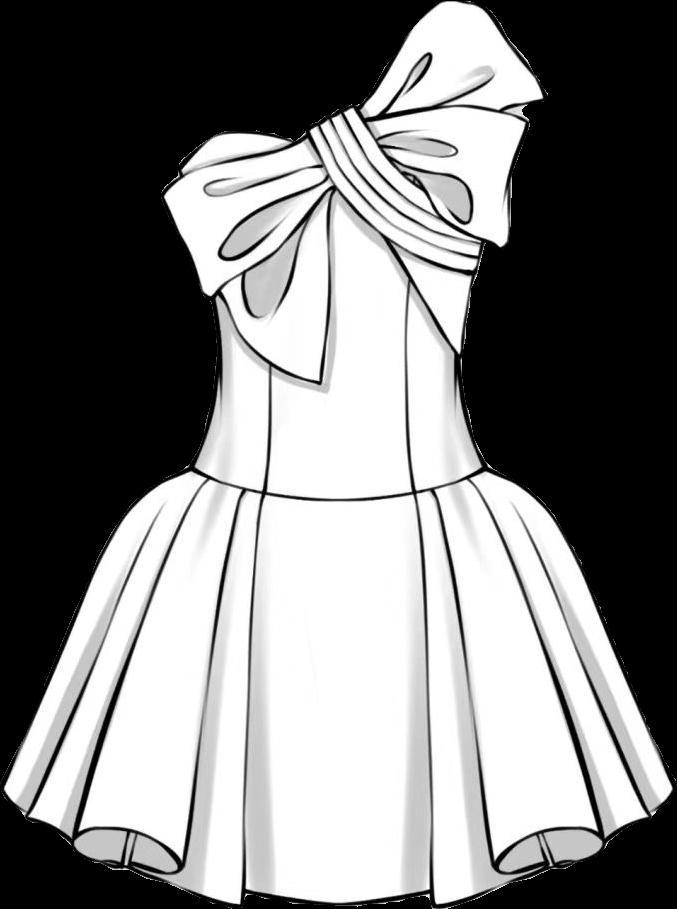Bodice: (161, 1, 546, 500)
Hemline: (0, 782, 676, 908)
Neckline: (175, 0, 452, 174)
Skirt: (4, 463, 672, 908)
Waistline: (183, 458, 494, 507)
